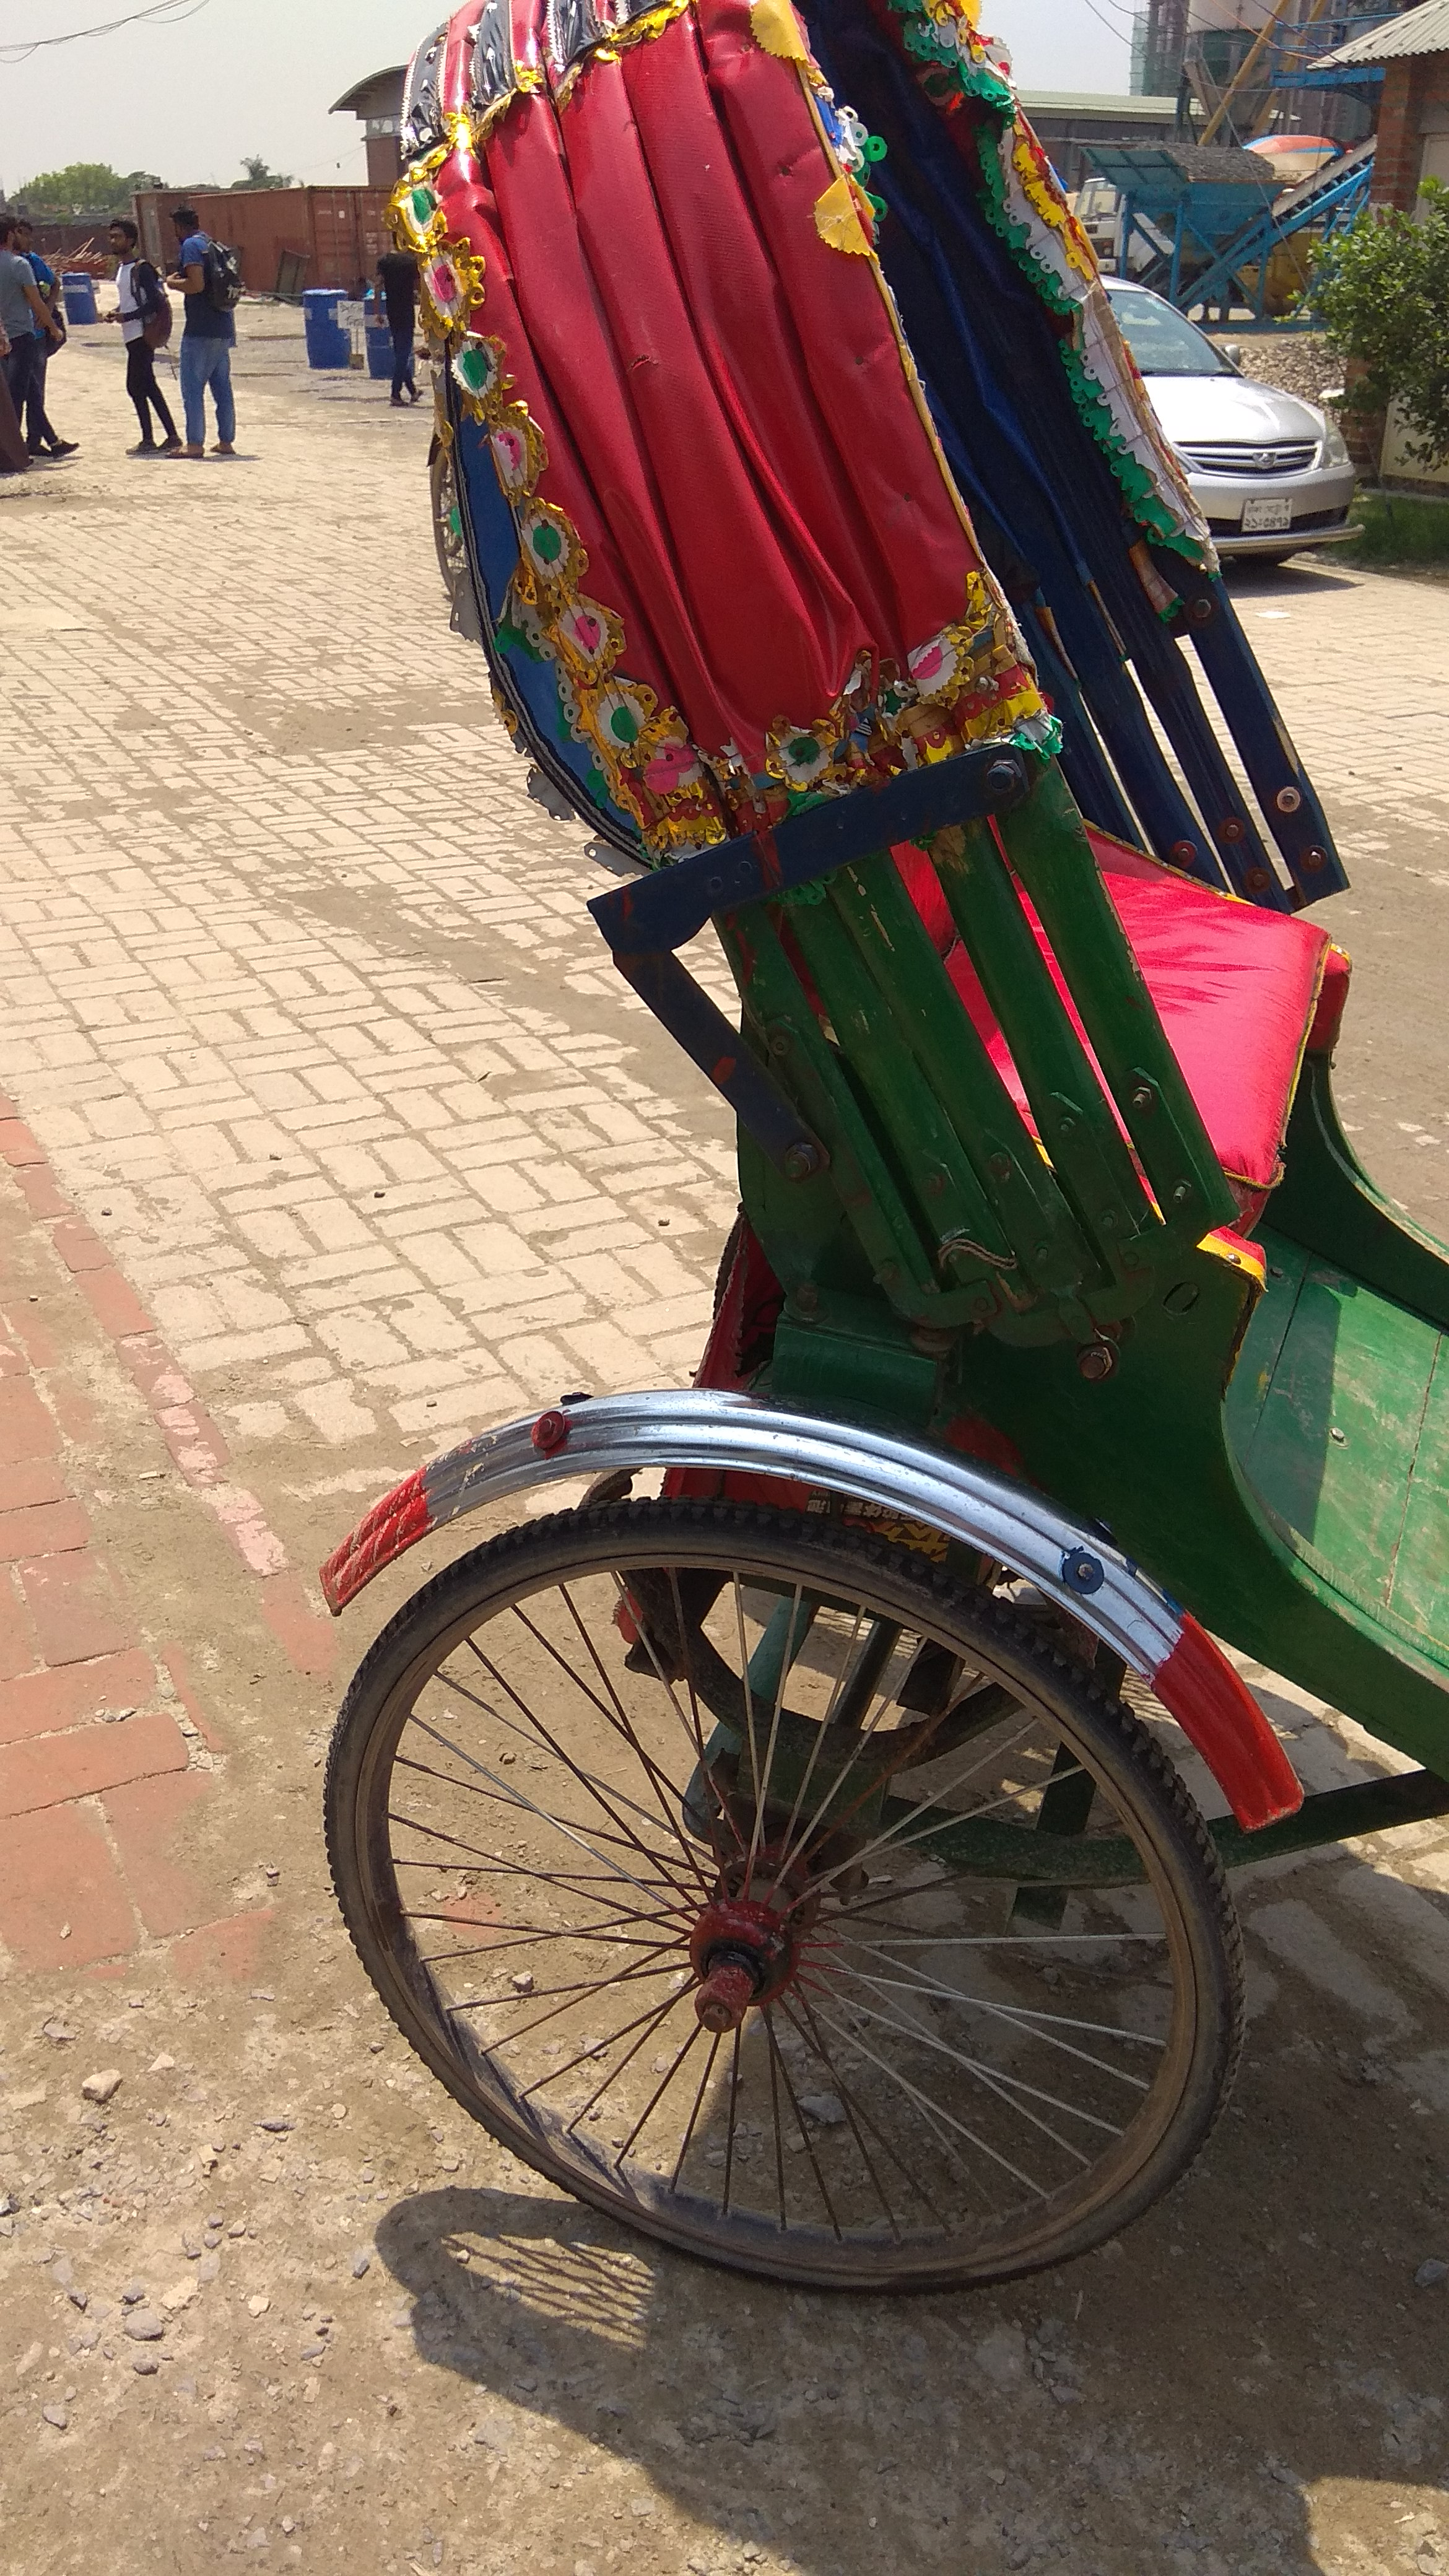Rickshaw: (249, 7, 1447, 2328)
